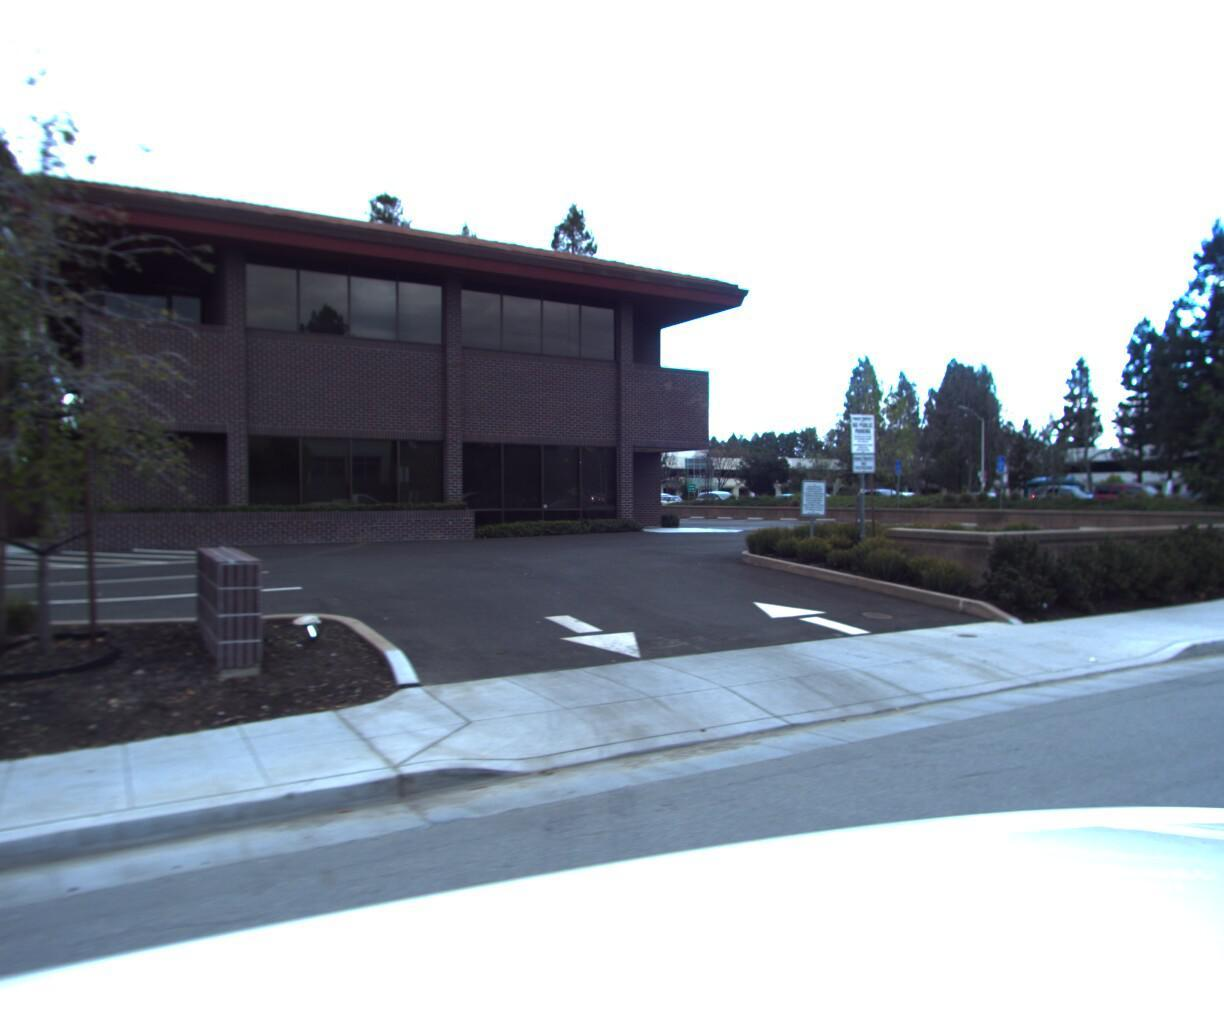car: (1086, 472, 1191, 508)
